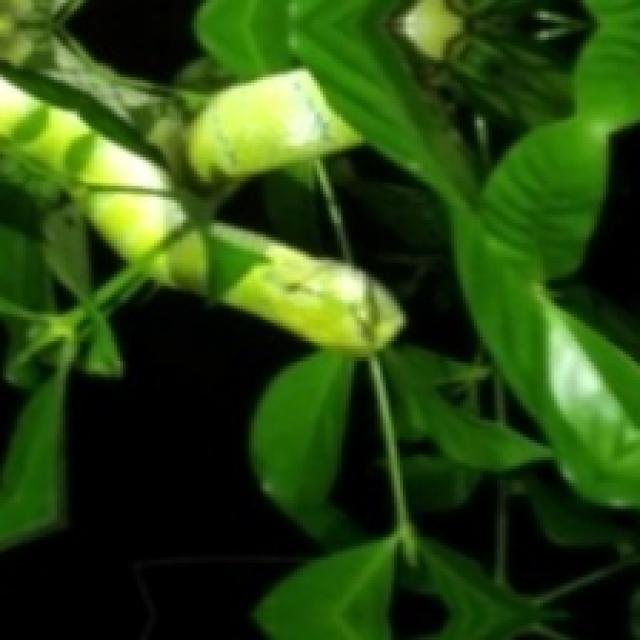north ph temple pitviper: (0, 0, 404, 356)
